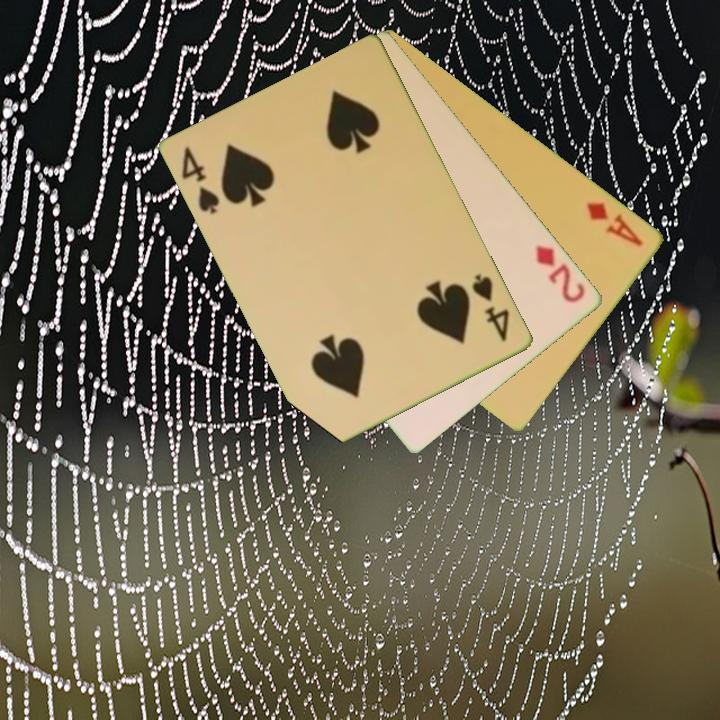2d: (533, 242, 589, 306)
4s: (468, 270, 513, 345), (178, 143, 223, 218)
Ad: (584, 198, 647, 249)
